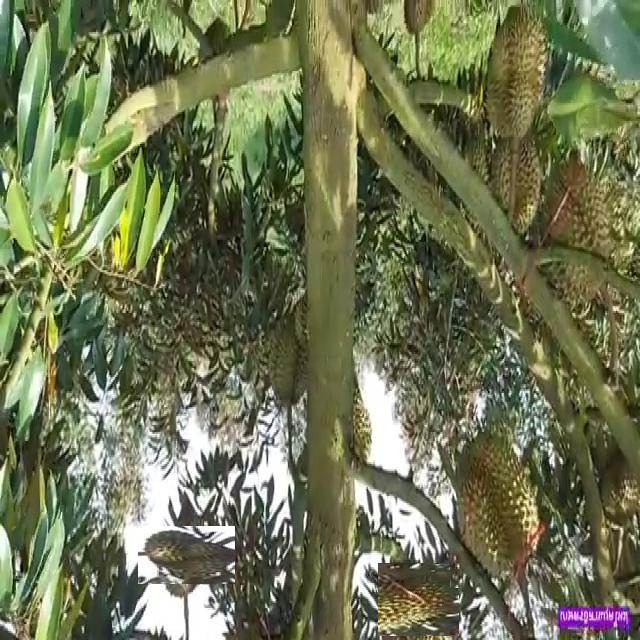durian: (518, 144, 612, 328), (450, 423, 544, 588), (481, 3, 550, 149), (482, 121, 544, 248), (148, 516, 225, 594), (380, 561, 458, 638), (267, 316, 311, 416)
